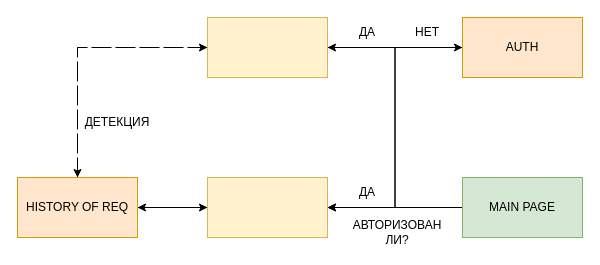
Some shapes in this 600 by 265 pixel diagram are drawn without their labels. Each missing label, with the centre of its shape:
"DETECTION" goes at [267,47].
"PROFILE" goes at [267,207].
